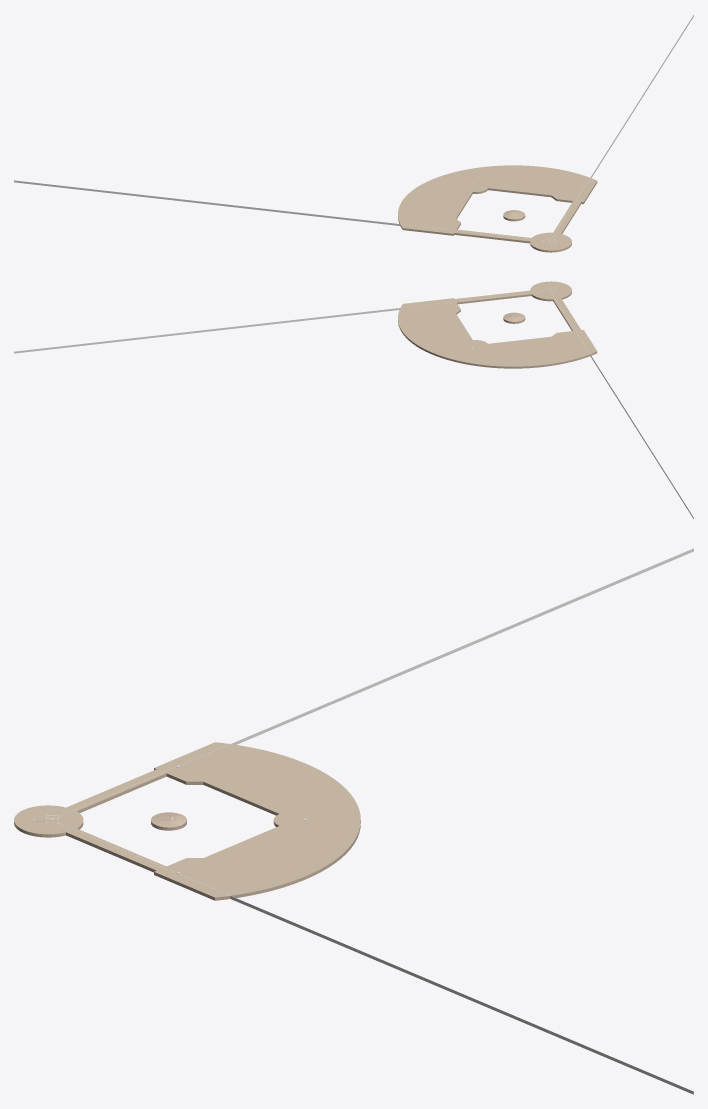
Rendered from infield.glb.
3 views of the same model, one above another, from view 1: azimuth 30°, elevation 25°; view 2: azimuth 150°, elevation 25°; view 3: azimuth 270°, elevation 25° (orthographic). The views are drawn at different scales.
Parts seen in each view (by area): view 1: infield dirt, white; view 2: infield dirt, white; view 3: infield dirt, white.
Boxes of the visible parts, x1=… form: infield dirt: x1=398, y1=165, x2=597, y2=252; white: x1=14, y1=14, x2=693, y2=245; infield dirt: x1=398, y1=281, x2=597, y2=368; white: x1=14, y1=287, x2=693, y2=519; infield dirt: x1=14, y1=742, x2=360, y2=900; white: x1=34, y1=548, x2=693, y2=1094.
Size of the model in its own units: 638 by 2.6 by 337.
